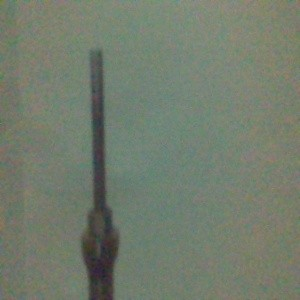obeng: (78, 48, 121, 300)
